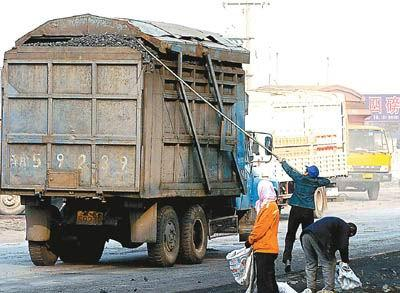chaozhai: (3, 11, 255, 265)
